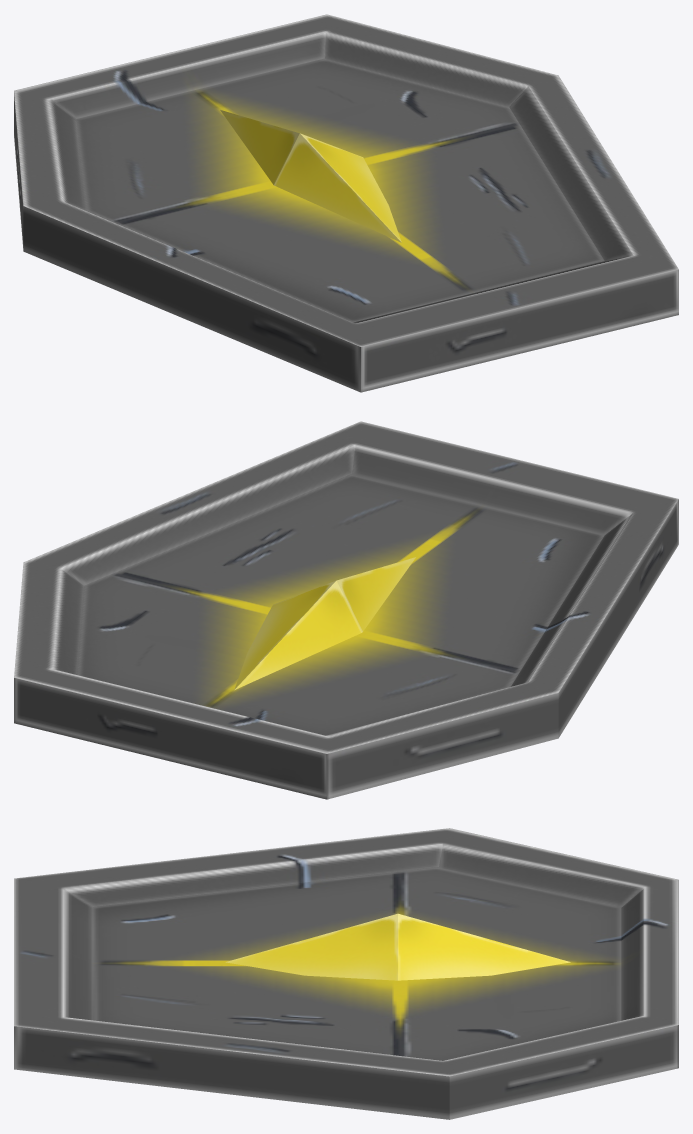
File: Shield.FBX
The picture shows the model from 3 angles, top to bottom: view 1: azimuth 30°, elevation 25°; view 2: azimuth 150°, elevation 25°; view 3: azimuth 270°, elevation 25°; orthographic projection. The views are drawn at different scales.
Visible parts, largest first — view 1: Box002, Pyramid001; view 2: Box002, Pyramid001; view 3: Box002, Pyramid001.
Part boxes in pixels (x1,y1,x2,y2): Box002: (14,14,678,392); Pyramid001: (220,110,401,242); Box002: (14,421,678,799); Pyramid001: (234,557,415,689); Box002: (14,828,678,1119); Pyramid001: (225,913,570,980).
Bounding box in the file's own units: 159 × 22 × 180.
